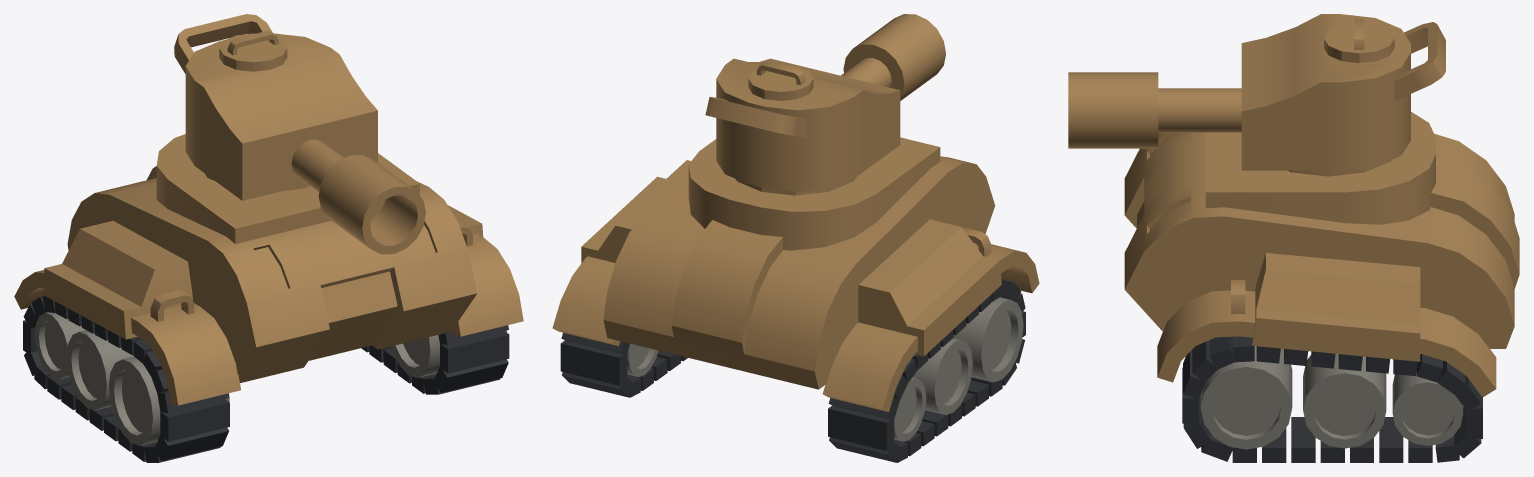
The model's file is cc0-tank-lod0.glb.
3 views of the same model, side by side, from view 1: azimuth 30°, elevation 25°; view 2: azimuth 150°, elevation 25°; view 3: azimuth 270°, elevation 25° (orthographic). The views are drawn at different scales.
Visible parts, largest first — view 1: part_0; view 2: part_0; view 3: part_0.
Boxes of the visible parts, x1=… form: part_0: x1=14, y1=14, x2=523, y2=462; part_0: x1=552, y1=14, x2=1039, y2=462; part_0: x1=1068, y1=14, x2=1519, y2=462.
Size of the model in its own units: 2.37 by 2.14 by 2.5.
